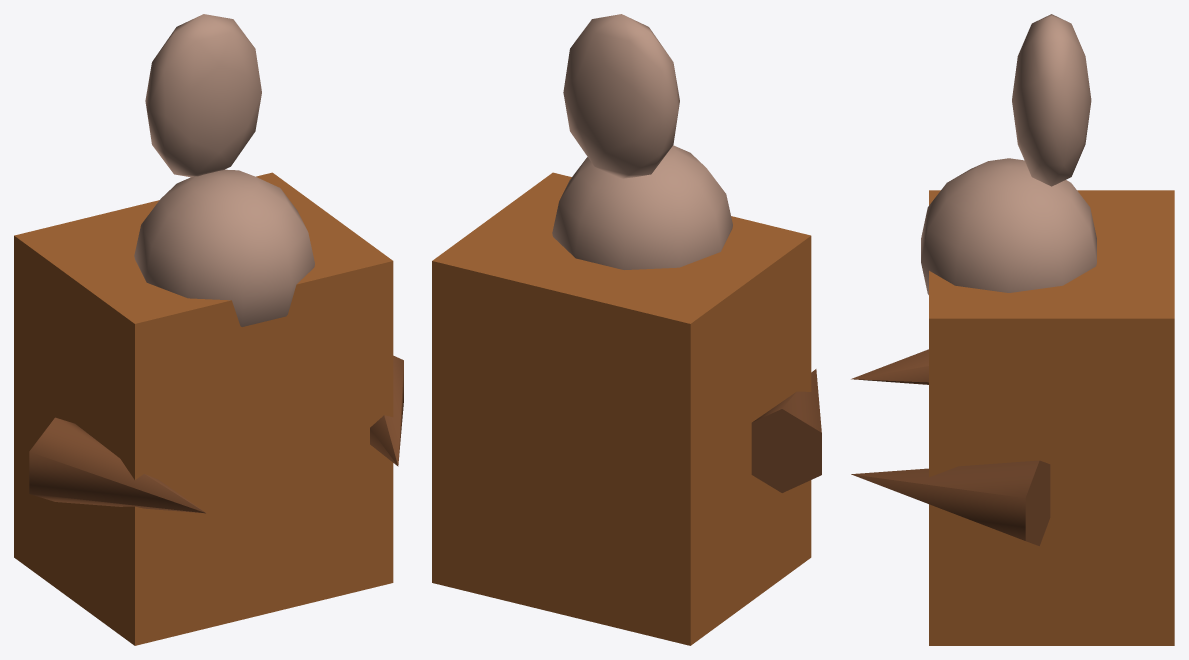
File: canyon_elite.glb
The picture shows the model from 3 angles, left to right: view 1: azimuth 30°, elevation 25°; view 2: azimuth 150°, elevation 25°; view 3: azimuth 270°, elevation 25°; orthographic projection.
Parts seen in each view (by area): view 1: CoreBody, Head, ELITE_canyon_crest, MOTIF_canyon_pincer_-1, MOTIF_canyon_pincer_1; view 2: CoreBody, Head, ELITE_canyon_crest, MOTIF_canyon_pincer_-1; view 3: CoreBody, Head, ELITE_canyon_crest, MOTIF_canyon_pincer_1, MOTIF_canyon_pincer_-1.
Boxes of the visible parts, x1,y1,x2,y2 form: CoreBody: [14, 172, 393, 645]; Head: [134, 169, 314, 326]; ELITE_canyon_crest: [145, 14, 261, 177]; MOTIF_canyon_pincer_-1: [29, 417, 206, 513]; MOTIF_canyon_pincer_1: [370, 355, 403, 466]; CoreBody: [432, 172, 811, 645]; Head: [552, 145, 732, 269]; ELITE_canyon_crest: [563, 14, 679, 178]; MOTIF_canyon_pincer_-1: [751, 369, 821, 492]; CoreBody: [929, 190, 1174, 645]; Head: [921, 158, 1096, 294]; ELITE_canyon_crest: [1012, 14, 1091, 186]; MOTIF_canyon_pincer_1: [851, 460, 1050, 545]; MOTIF_canyon_pincer_-1: [851, 349, 928, 384].
Bounding box in the file's own units: 1.86 × 2.63 × 1.37.
